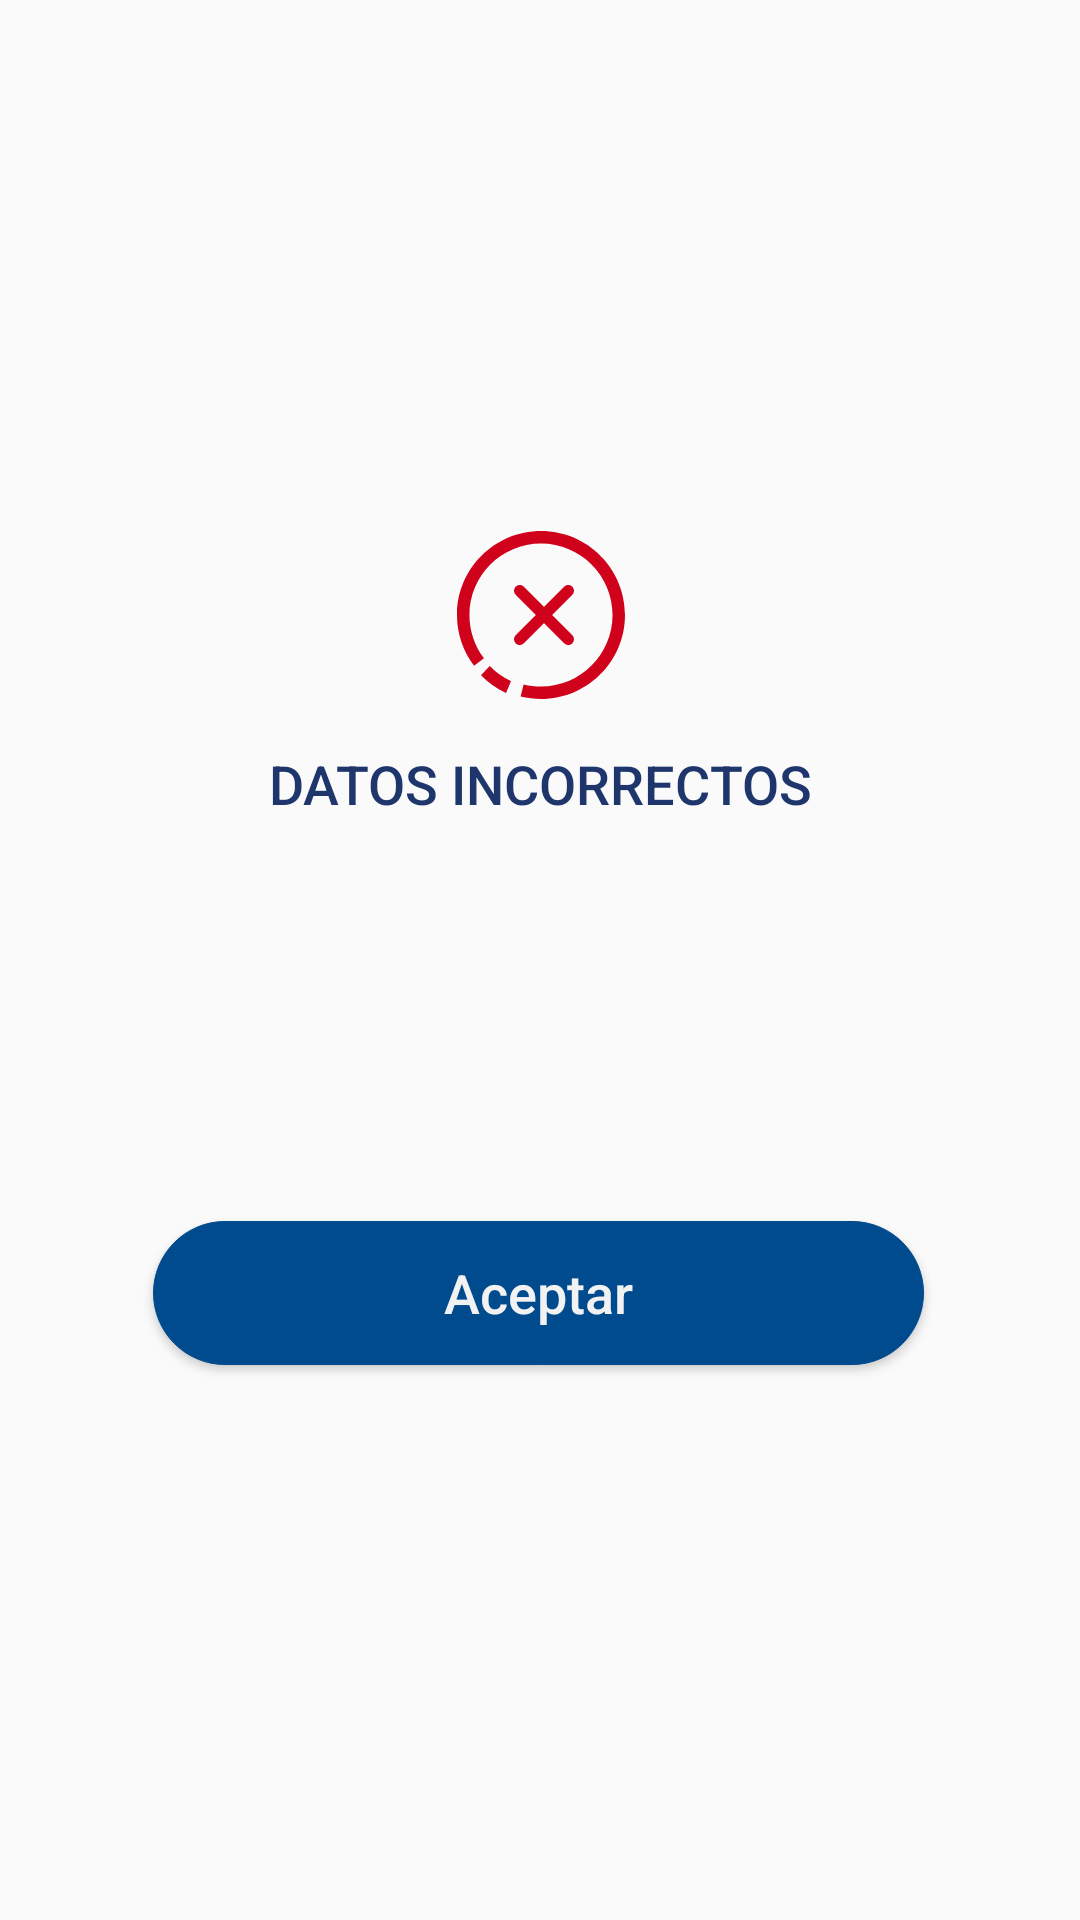

Icons on this 1080px x 1920px Android screen, each with the point to tap as [x,y]:
error: [541,615]
